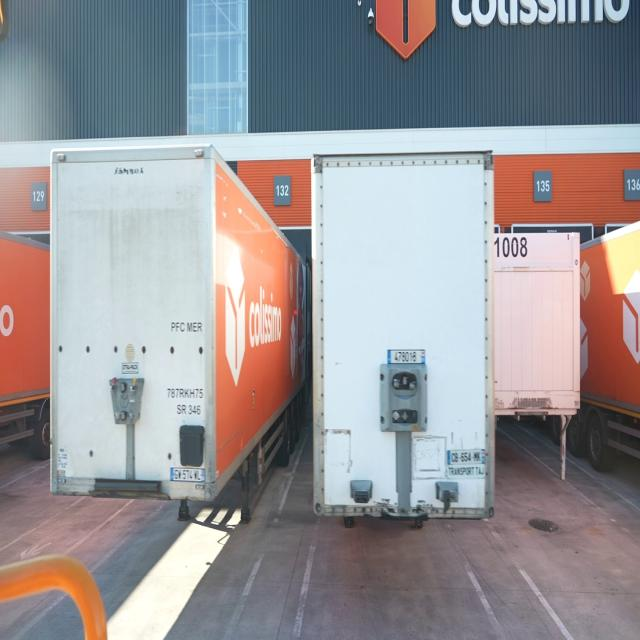Code: (492, 233, 532, 263)
